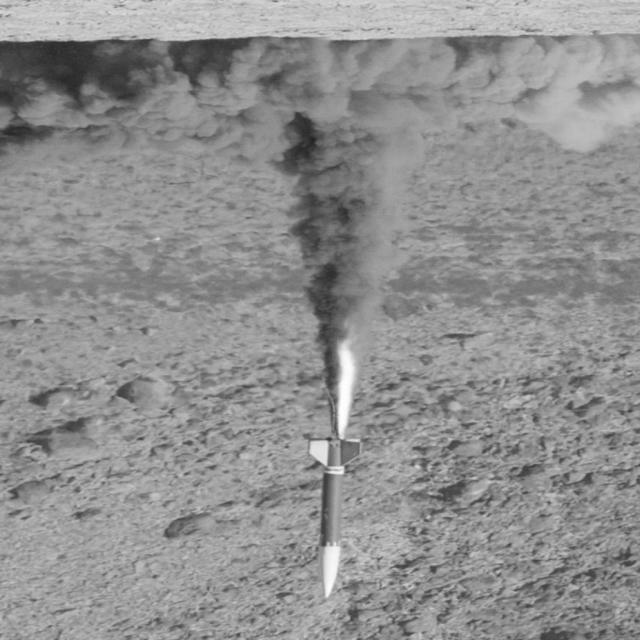missile: (310, 422, 360, 598)
